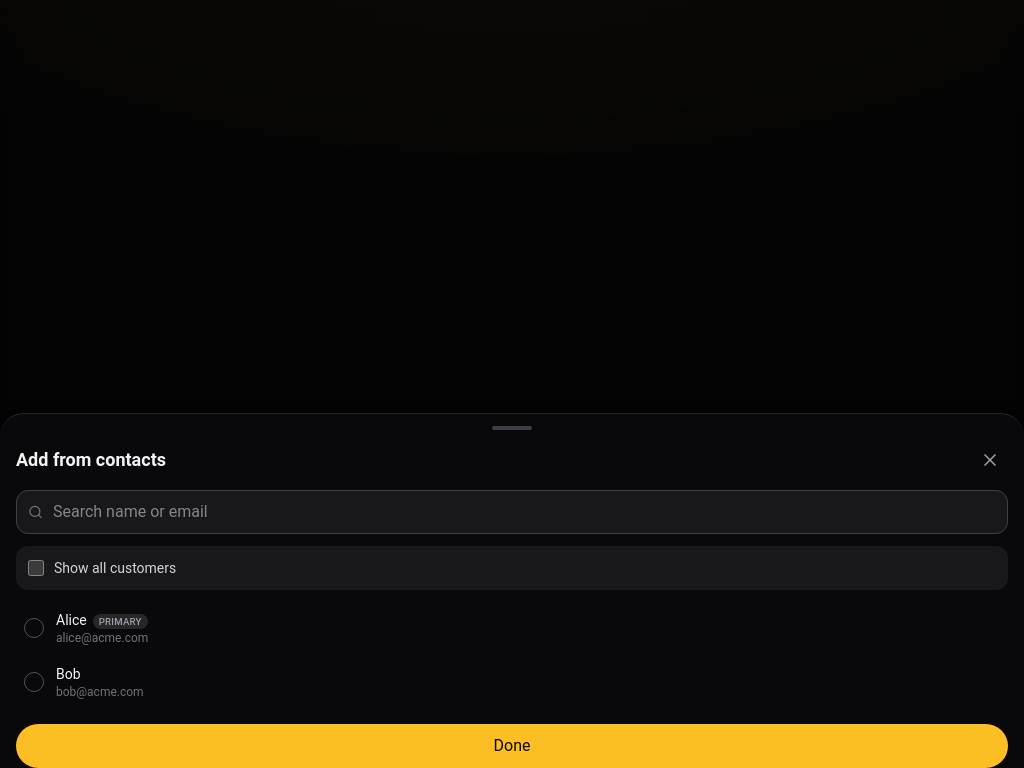
Scenario: ContactPicker › re-fetches from the directory endpoint when "Show all customers" is toggled
The image size is (1024, 768).
Expected: the text "Alice" is shown, [56, 612, 87, 628]
Expected: the text "Globex" is not shown
What coordinates should you click on to do the following:
click the checkbox labelled "Show all customers"
I would click on:
 (36, 568)
Its box is [28, 560, 44, 576].
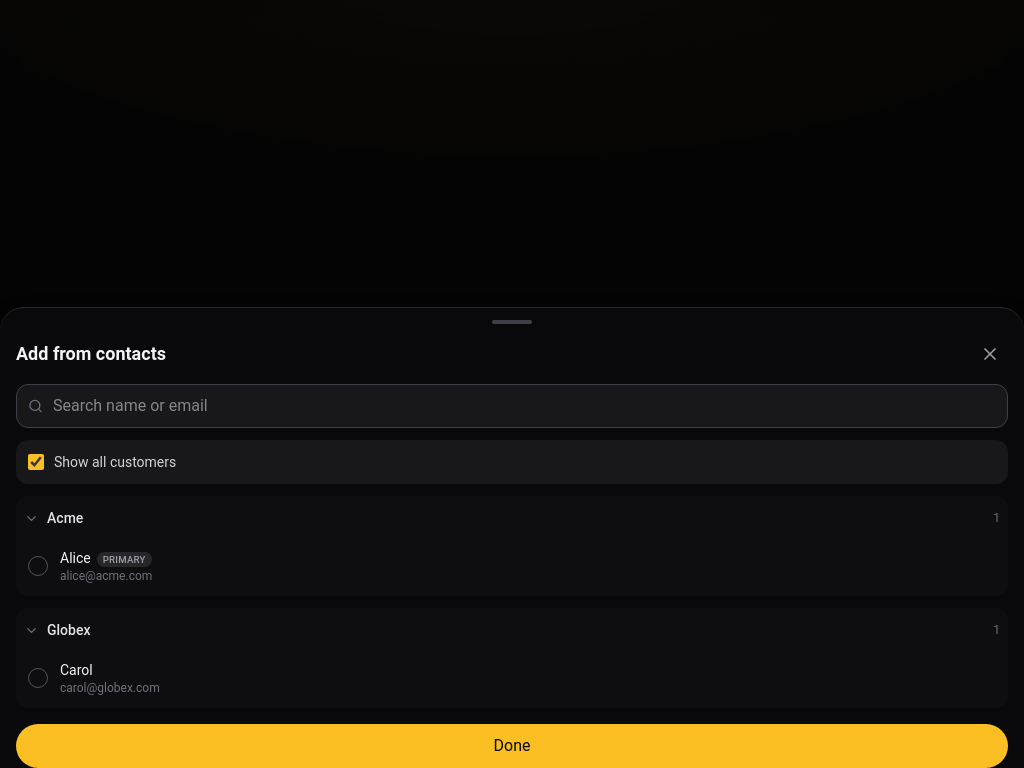
Expected: the text "Globex" is shown, [47, 620, 90, 640]
